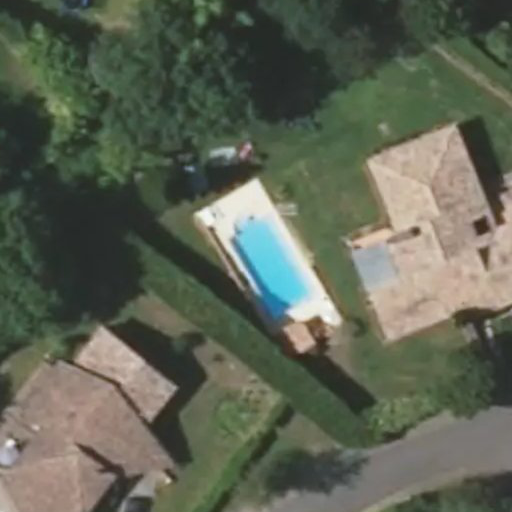pool: (187, 230, 296, 267)
